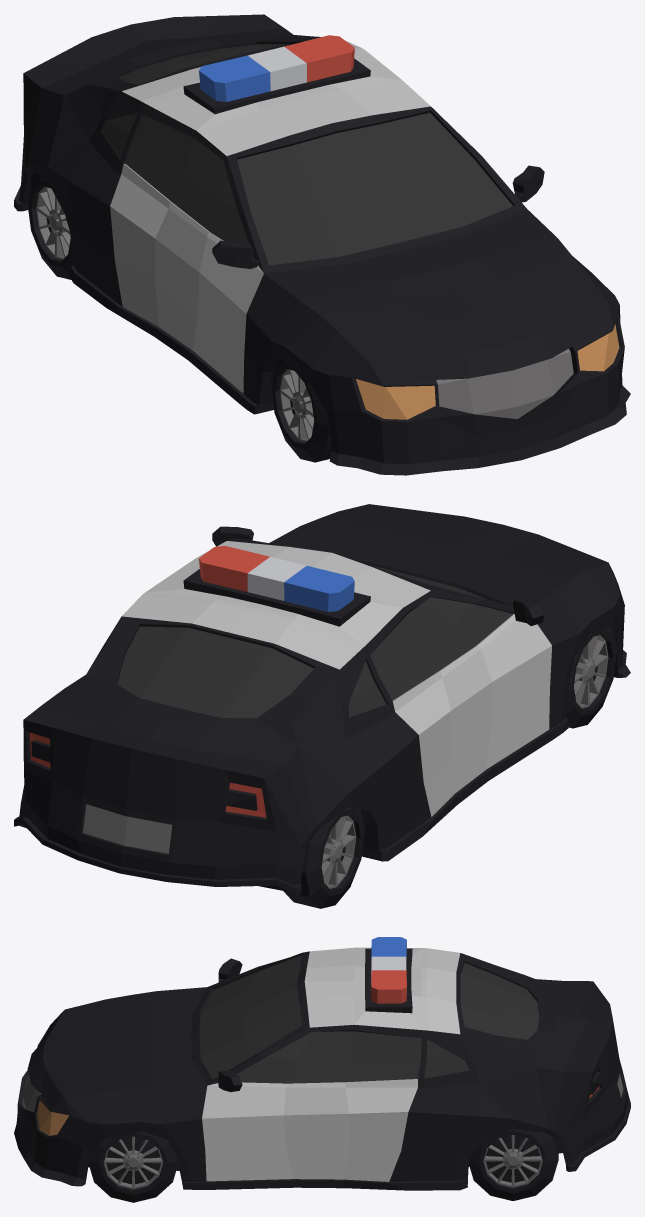
The model's file is police-real.gltf.
3 renders of one model, top to bottom at view 1: azimuth 30°, elevation 25°; view 2: azimuth 150°, elevation 25°; view 3: azimuth 270°, elevation 25°, orthographic. The views are drawn at different scales.
Parts seen in each view (by area): view 1: Cop_Cube.001; view 2: Cop_Cube.001; view 3: Cop_Cube.001.
Boxes of the visible parts, bbox=[...] form: Cop_Cube.001: bbox=[14, 14, 630, 475]; Cop_Cube.001: bbox=[14, 504, 630, 908]; Cop_Cube.001: bbox=[14, 937, 630, 1202].
Bounding box in the file's own units: 1.78 × 1.24 × 3.73.
Materials: 1 (1 with a texture image).
